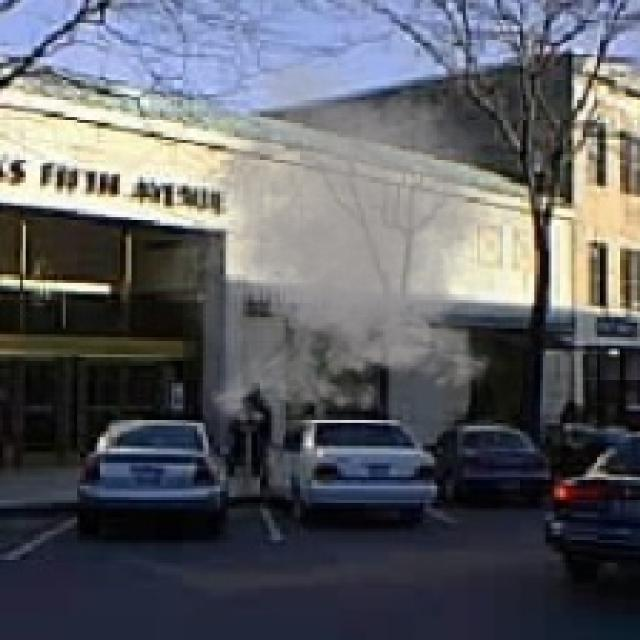smoke: (152, 54, 548, 434)
